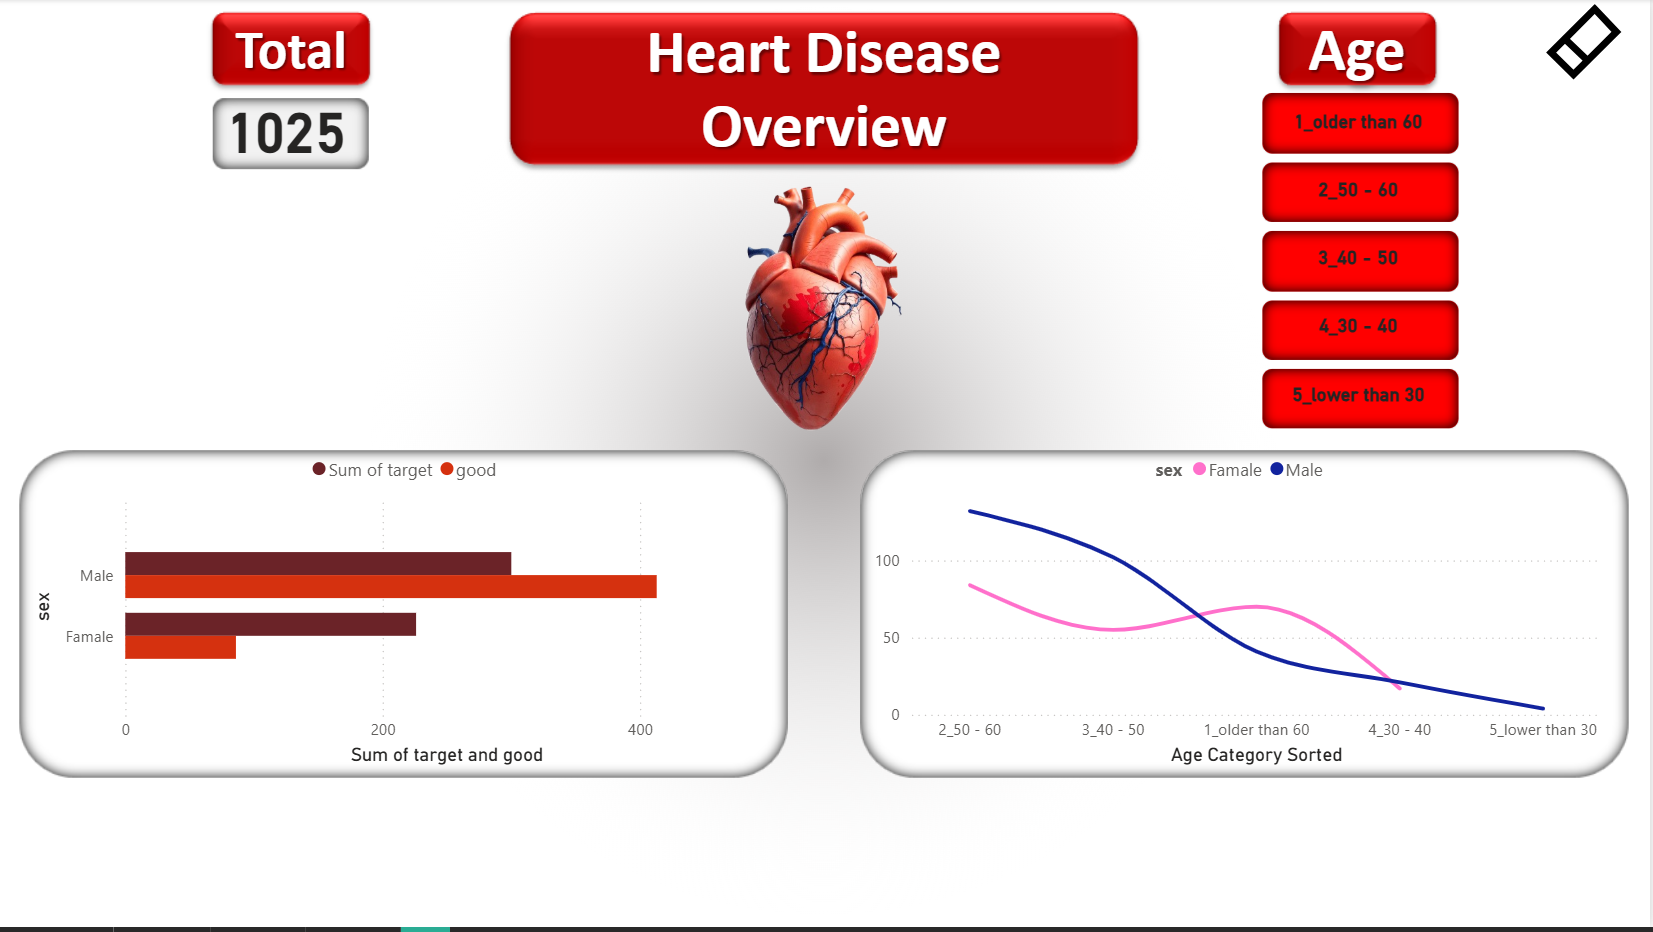

This screenshot's page, from the dashboard's own definition file:
{"tool":"powerbi","page":{"name":"Page 2","canvas":[1280,720],"ordinal":0},"visuals":[{"type":"card","fields":{"Values":["CountNonNull(heart.target)"]},"box":[153.5,67.4,139.5,64],"z":0},{"type":"actionButton","box":[1179.1,0,100.9,67.2],"z":1000},{"type":"advancedSlicerVisual","fields":{"Values":["heart.Column"]},"box":[980.2,67.4,148.8,268.6],"z":2000},{"type":"lineChart","fields":{"Series":["heart.sex"],"Category":["heart.Age Category Sorted"],"Y":["Sum(heart.target)"]},"box":[673.3,344.2,581.4,254.7],"z":3000},{"type":"clusteredBarChart","fields":{"Y":["Sum(heart.target)","heart.good"],"Category":["heart.sex"]},"box":[20.9,344.2,590.7,254.7],"z":4000}]}

Visuals, with their boxes in screenshot pixels (x1, y1, x2, y2), scaled from the page's 1280x720 canvas onto the 1653x932 screenshot:
card - CountNonNull(heart.target): crop(198, 87, 378, 170)
actionButton: crop(1523, 0, 1652, 87)
advancedSlicerVisual - heart.Column: crop(1266, 87, 1458, 435)
lineChart - heart.sex x heart.Age Category Sorted: crop(870, 446, 1620, 775)
clusteredBarChart - Sum(heart.target) x heart.good: crop(27, 446, 790, 775)
